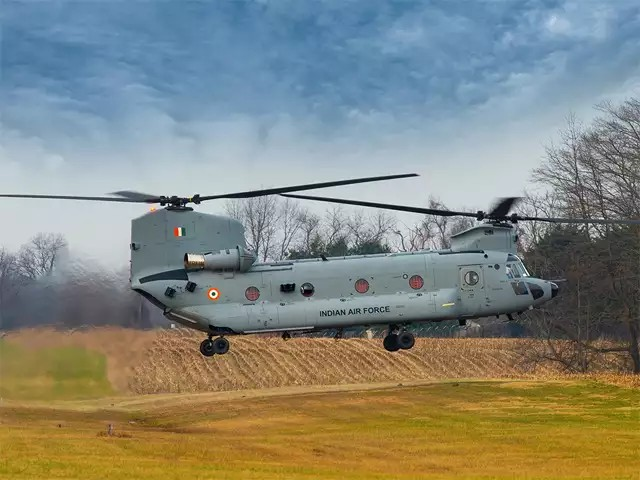chinook: (96, 162, 578, 354)
